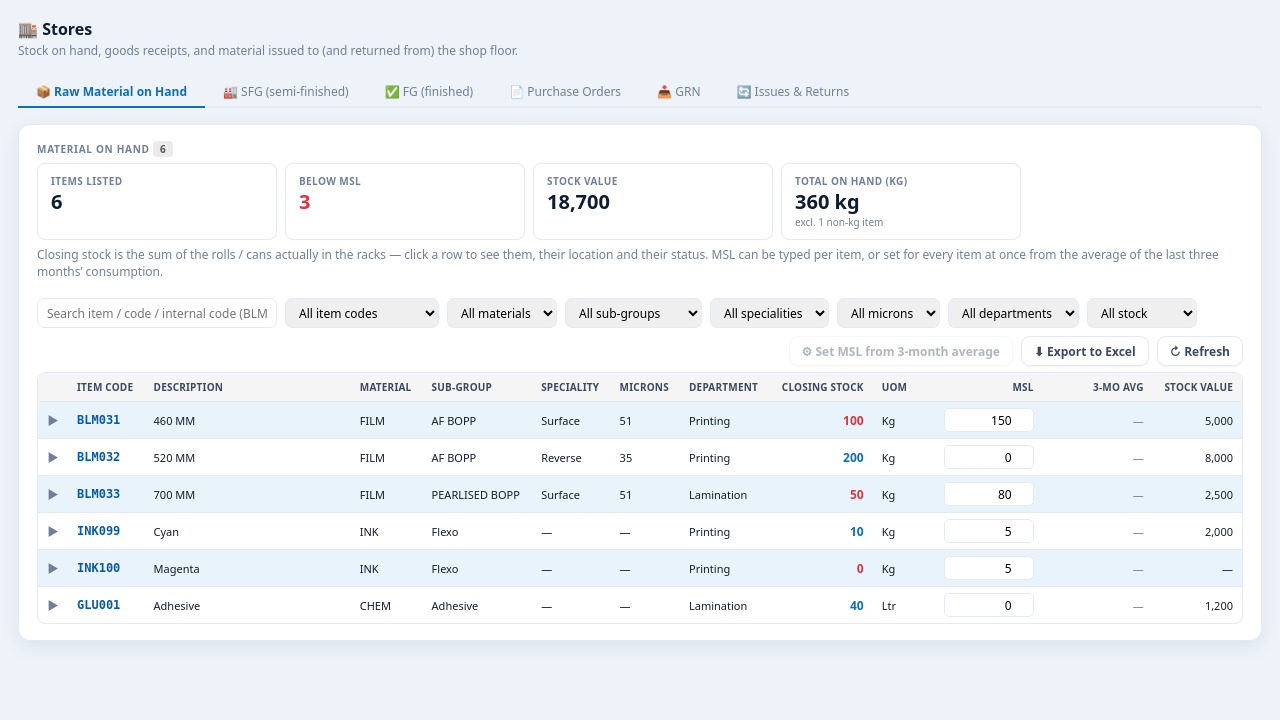
it: Material on Hand — filters, search and the figures above them › moves all three figures to describe only what is on screen
The width and height of the screenshot is (1280, 720).
Select "INK" in the dropdown named "Filter by material" at x=502, y=313, box [447,298,557,328]
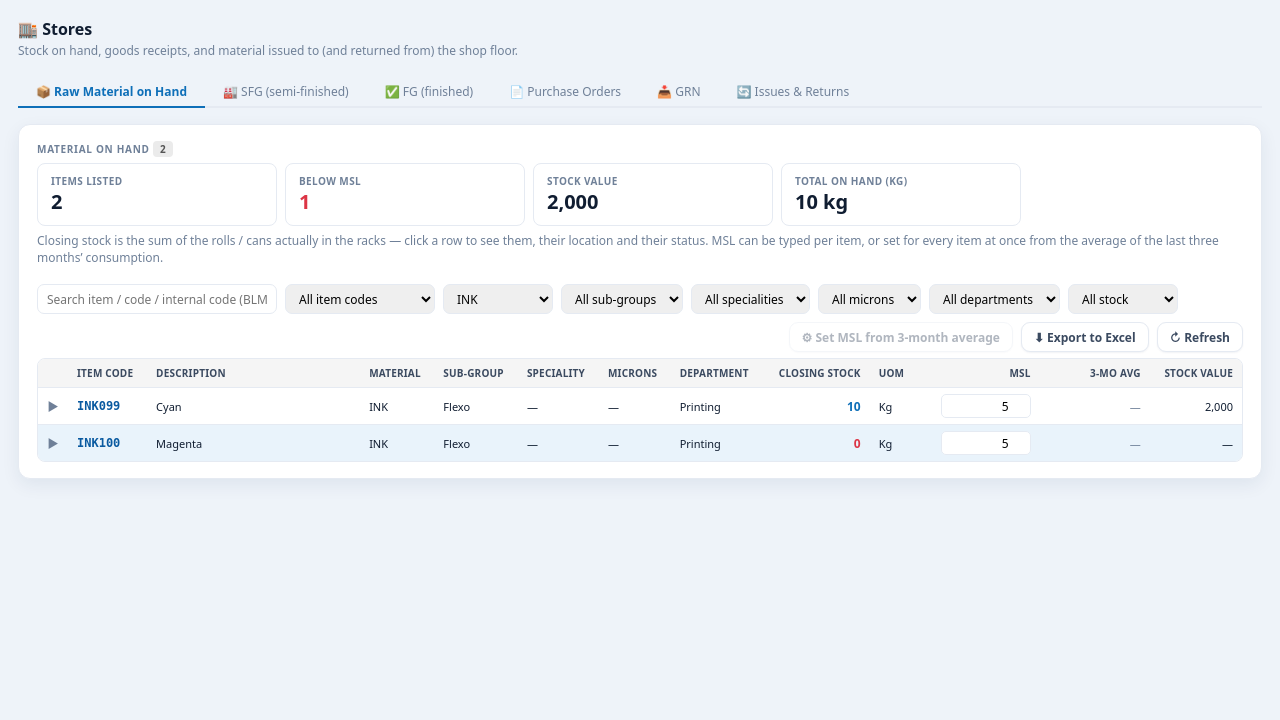
Now the text "2" below "Items listed" is shown, box [51,188,62,215]
Now the text "1" is shown, box [299,188,310,215]
Now the text "2,000" is shown, box [547,188,598,215]
